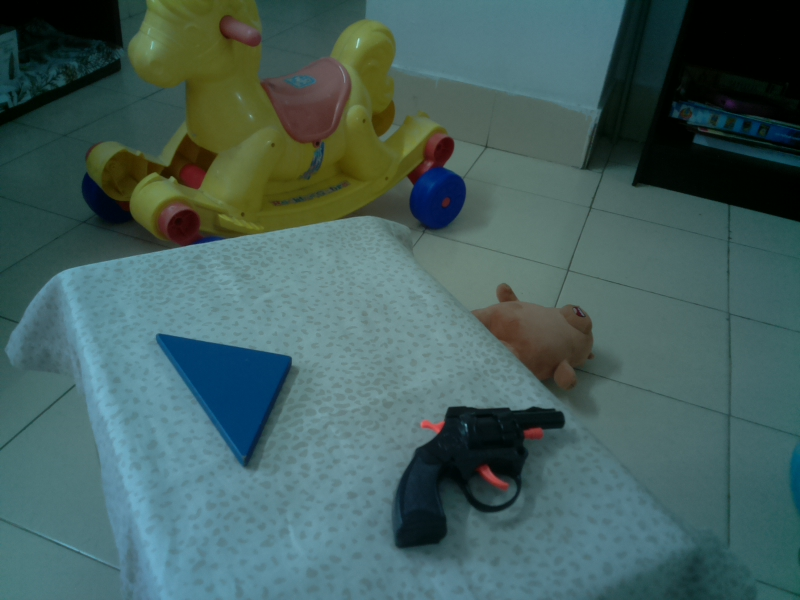Gun: (388, 402, 570, 552)
Triangle: (153, 329, 297, 472)
